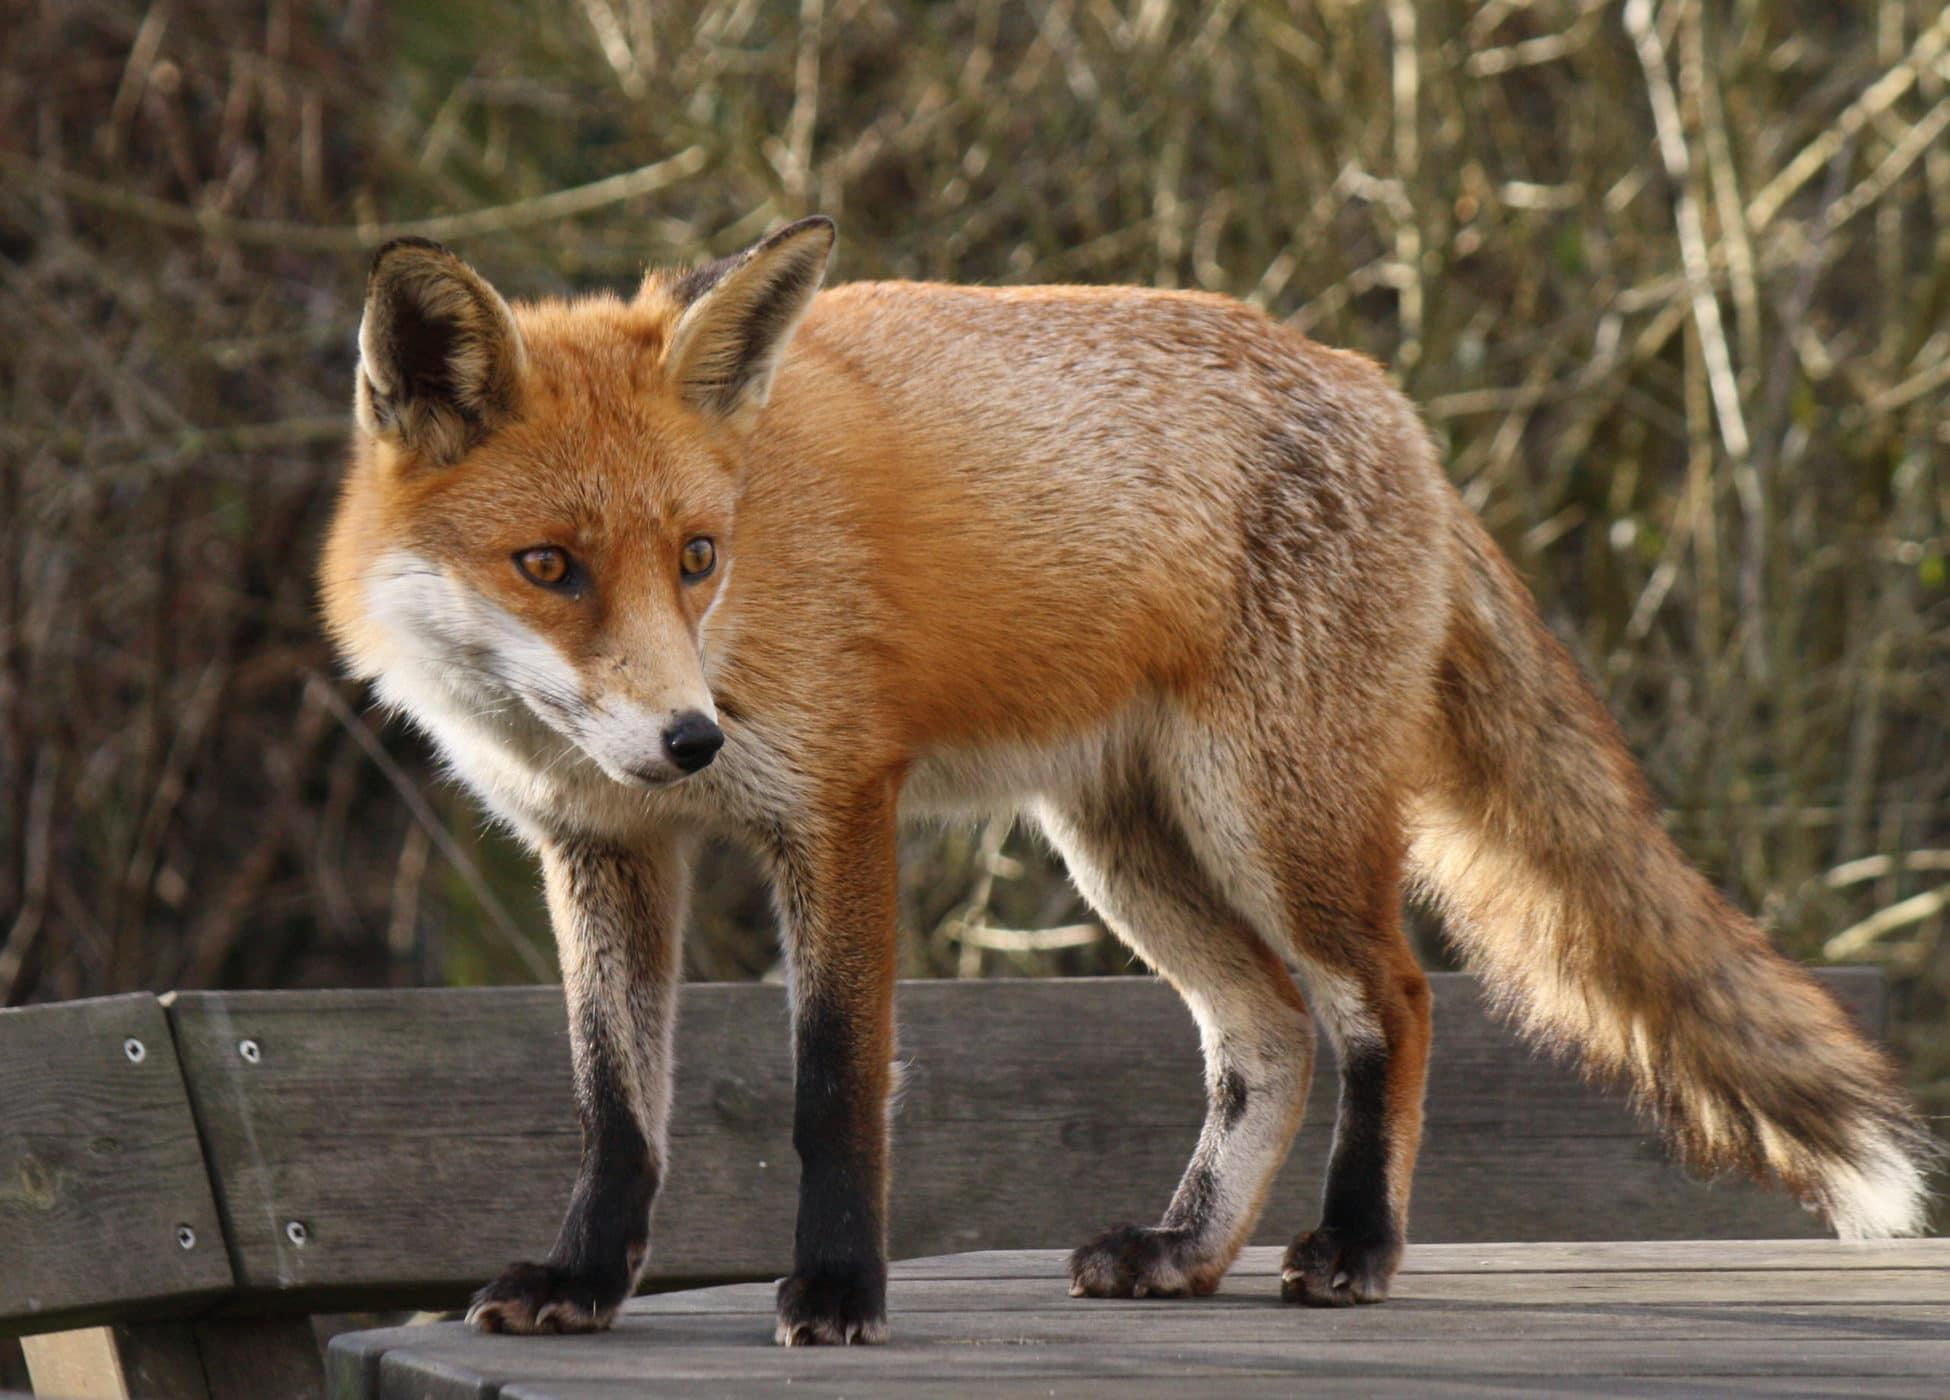fox: (324, 200, 1944, 1335)
